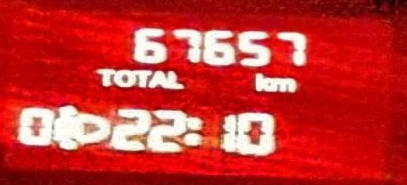0: (235, 109, 277, 155), (15, 104, 53, 146)
1: (219, 112, 238, 155)
2: (110, 106, 148, 153), (148, 106, 184, 153)
5: (236, 28, 270, 68)
6: (202, 25, 236, 68), (132, 25, 169, 62)
7: (276, 30, 310, 65), (170, 27, 202, 64)
X: (185, 115, 204, 146), (268, 74, 298, 93), (165, 69, 185, 90), (114, 68, 133, 89), (96, 67, 115, 87), (252, 72, 270, 93), (132, 68, 150, 88), (149, 68, 166, 88)
